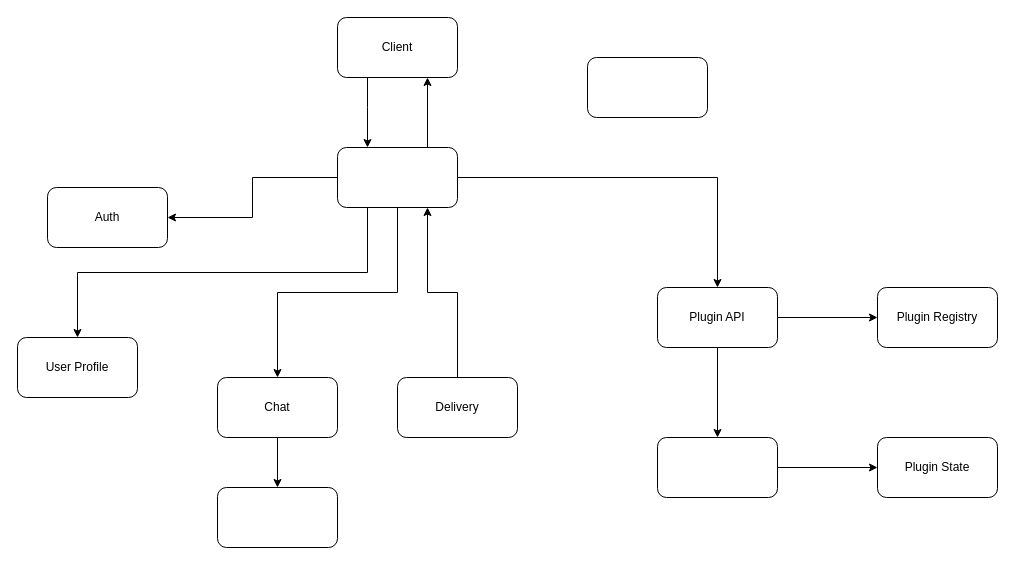
Image size: 1015x565. Some labels were removed from this diagram. Each missing label, with the centre of its shape:
"Core Gateway" belongs at point 397,177.
"Event Bus" belongs at point 647,87.
"Media" belongs at point 277,517.
"Plugin Runtime" belongs at point 717,467.
